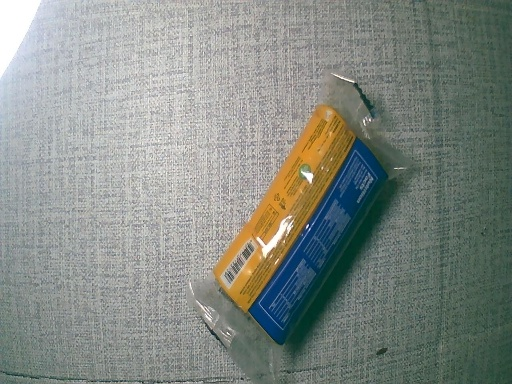plastic: (180, 70, 415, 380)
